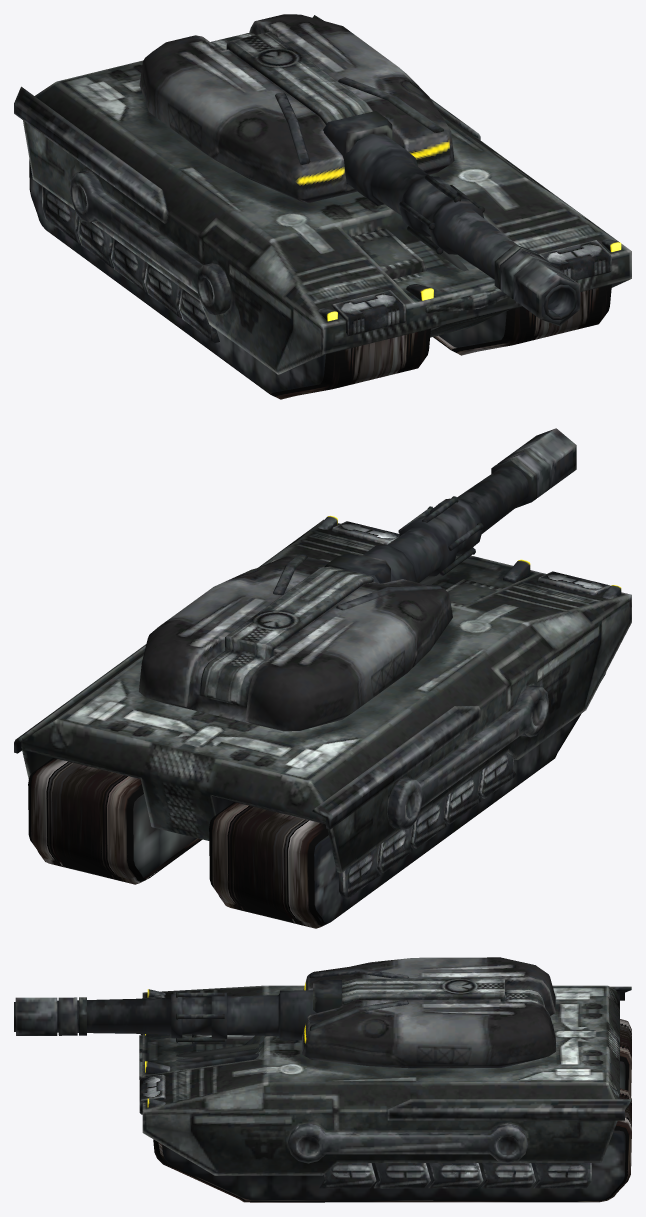
File: RoutheTank.glb
3 renders of one model, top to bottom at view 1: azimuth 30°, elevation 25°; view 2: azimuth 150°, elevation 25°; view 3: azimuth 270°, elevation 25°, orthographic. The views are drawn at different scales.
Parts seen in each view (by area): view 1: Mesh.001, Mesh; view 2: Mesh.001, Mesh; view 3: Mesh.001, Mesh.
Part boxes in pixels (x1,y1,x2,y2): Mesh.001: (14,14,631,393); Mesh: (29,159,611,399); Mesh.001: (14,428,631,924); Mesh: (28,673,605,928); Mesh.001: (14,957,631,1200); Mesh: (153,1019,631,1202).
Size of the model in its own units: 1.25 by 0.7526 by 2.55.
2 materials, 2 textured.
